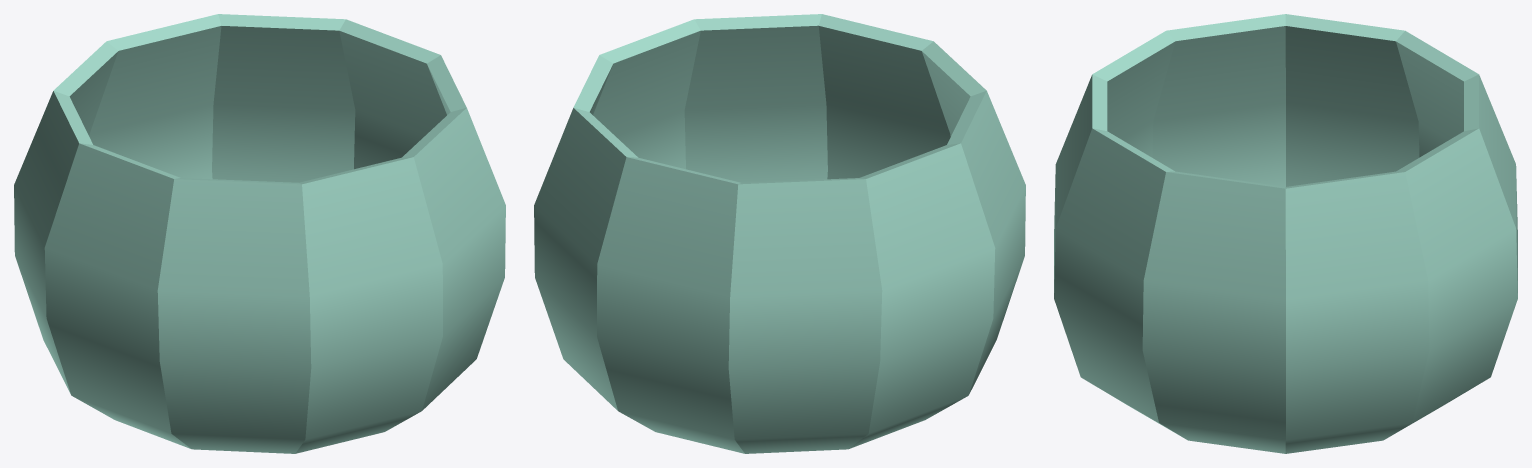
File: Cup.fbx
The picture shows the model from 3 angles, left to right: view 1: azimuth 30°, elevation 25°; view 2: azimuth 150°, elevation 25°; view 3: azimuth 270°, elevation 25°; orthographic projection.
Visible parts, largest first — view 1: cup; view 2: cup; view 3: cup.
Part boxes in pixels (x1,y1,x2,y2): cup: (14,14,505,453); cup: (534,14,1025,453); cup: (1054,14,1517,453).
Size of the model in its own units: 23.22 by 14.72 by 21.9.
1 material, 1 textured.
